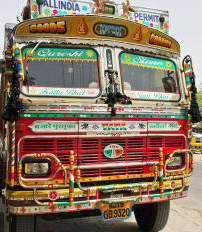truck: (2, 2, 192, 232)
